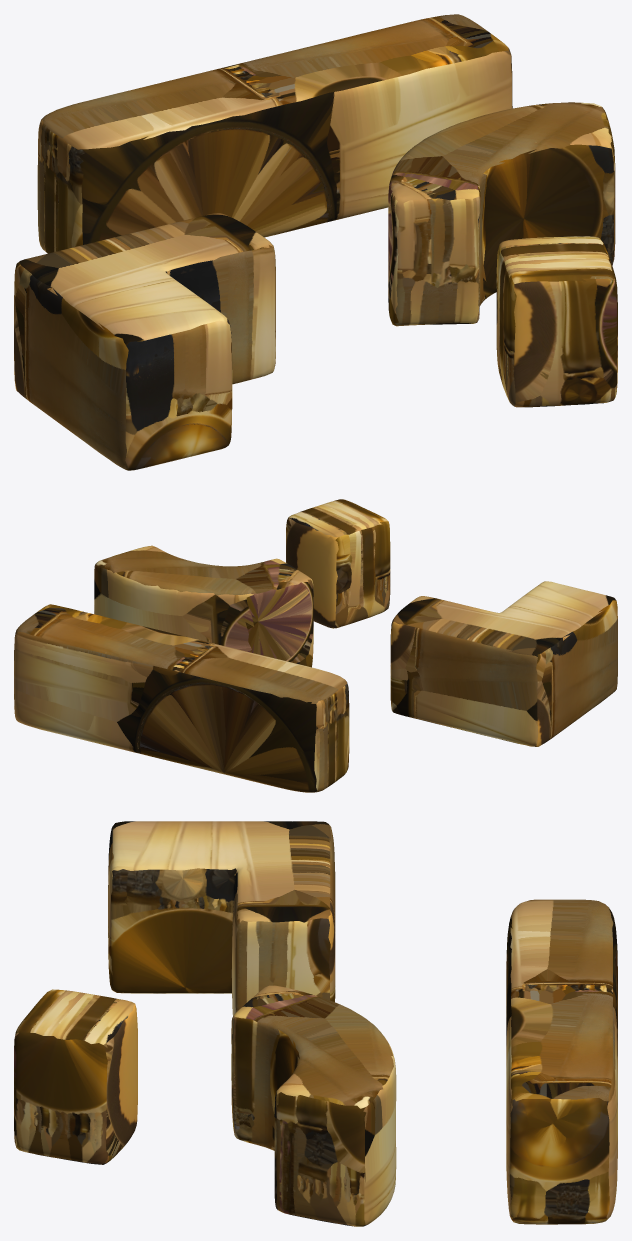
File: caliyeni.fbx
The picture shows the model from 3 angles, top to bottom: view 1: azimuth 30°, elevation 25°; view 2: azimuth 150°, elevation 25°; view 3: azimuth 270°, elevation 25°; orthographic projection. The views are drawn at different scales.
Visible parts, largest first — view 1: Mesh_0, Mesh_0.001, Mesh_0.002, Mesh_0.003; view 2: Mesh_0, Mesh_0.001, Mesh_0.002, Mesh_0.003; view 3: Mesh_0.001, Mesh_0, Mesh_0.002, Mesh_0.003.
Boxes of the visible parts, left/top/right/bottom form: Mesh_0: left=37, top=14, right=512, bottom=253; Mesh_0.001: left=14, top=213, right=275, bottom=470; Mesh_0.002: left=388, top=102, right=615, bottom=326; Mesh_0.003: left=496, top=236, right=617, bottom=407; Mesh_0: left=14, top=604, right=349, bottom=792; Mesh_0.001: left=390, top=581, right=617, bottom=746; Mesh_0.002: left=94, top=545, right=313, bottom=667; Mesh_0.003: left=286, top=499, right=390, bottom=628; Mesh_0.001: left=108, top=821, right=335, bottom=1015; Mesh_0: left=506, top=899, right=617, bottom=1224; Mesh_0.002: left=231, top=985, right=396, bottom=1226; Mesh_0.003: left=14, top=989, right=137, bottom=1164.
Size of the model in its own units: 191 by 40.58 by 170.
